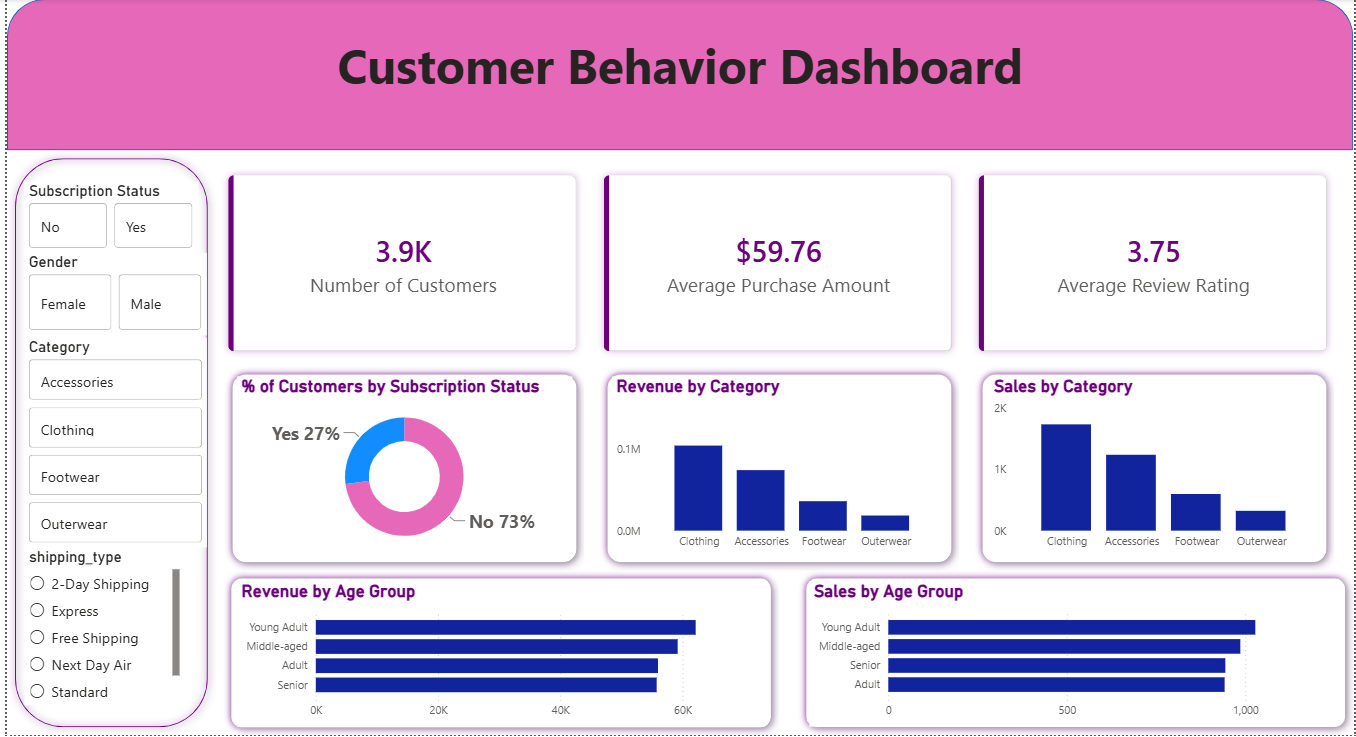

This screenshot's page, from the dashboard's own definition file:
{"tool":"powerbi","page":{"name":"Page 1","canvas":[1500,820],"ordinal":0},"visuals":[{"type":"cardVisual","fields":{"Data":["public customer.Number of Customers","public customer.Average Purchase Amount","public customer.Average Review Rating"]},"box":[218.6,168.5,1281.3,252.1],"z":0},{"type":"shape","box":[0,0,1499.9,168.5],"z":1000},{"type":"textbox","box":[0,32,1499.9,118.4],"z":2000},{"type":"shape","box":[242.3,409.4,401.1,227],"z":3000},{"type":"donutChart","title":"% of Customers by Subscription Status","fields":{"Category":["public customer.subscription_status"],"Y":["CountNonNull(public customer.customer_id)"]},"box":[256.3,420.6,373.2,201.9],"z":4000},{"type":"shape","box":[1077.9,409.4,401.1,227],"z":5000},{"type":"shape","box":[660.1,409.4,401.1,227],"z":6000},{"type":"clusteredColumnChart","title":"Revenue by Category","fields":{"Y":["Sum(public customer.purchase_amount)"],"Category":["public customer.category"]},"box":[674.1,420.6,366.3,201.9],"z":7000},{"type":"clusteredColumnChart","title":"Sales by Category","fields":{"Y":["CountNonNull(public customer.customer_id)"],"Category":["public customer.category"]},"box":[1094.6,420.6,366.3,201.9],"z":8000},{"type":"shape","box":[0,168.5,232.6,651.8],"z":9000},{"type":"advancedSlicerVisual","fields":{"Values":["public customer.subscription_status"]},"box":[19.5,203.3,193.6,79.4],"z":10000},{"type":"advancedSlicerVisual","fields":{"Values":["public customer.gender"]},"box":[19.5,282.7,203.3,91.9],"z":11000},{"type":"advancedSlicerVisual","fields":{"Values":["public customer.category"]},"box":[19.5,377.4,203.3,234],"z":12000},{"type":"listSlicer","fields":{"Values":["public customer.shipping_type"]},"box":[19.5,611.4,178.3,175.5],"z":13000},{"type":"shape","box":[240.6,636,619.1,184.3],"z":15000},{"type":"clusteredBarChart","title":"Revenue by Age Group","fields":{"Y":["Sum(public customer.purchase_amount)"],"Category":["public customer.age_group"]},"box":[256.1,648.7,579.7,161.8],"z":15500},{"type":"shape","box":[881.6,636.5,618.3,183.8],"z":16000},{"type":"clusteredBarChart","title":"Sales by Age Group","fields":{"Y":["CountNonNull(public customer.customer_id)"],"Category":["public customer.age_group"]},"box":[893.5,648.9,585.3,161.4],"z":17000}]}

Visuals, with their boxes in screenshot pixels (x1, y1, x2, y2), scaled from the page's 1500x820 canvas onto the 1356x737 screenshot:
cardVisual - public customer.Number of Customers x public customer.Average Purchase Amount: <box>198,151,1355,378</box>
shape: <box>0,0,1355,151</box>
textbox: <box>0,29,1355,135</box>
shape: <box>219,368,582,572</box>
"% of Customers by Subscription Status" donutChart: <box>232,378,569,559</box>
shape: <box>974,368,1337,572</box>
shape: <box>597,368,959,572</box>
"Revenue by Category" clusteredColumnChart: <box>609,378,941,559</box>
"Sales by Category" clusteredColumnChart: <box>990,378,1321,559</box>
shape: <box>0,151,210,736</box>
advancedSlicerVisual - public customer.subscription_status: <box>18,183,193,254</box>
advancedSlicerVisual - public customer.gender: <box>18,254,201,337</box>
advancedSlicerVisual - public customer.category: <box>18,339,201,550</box>
listSlicer - public customer.shipping_type: <box>18,550,179,707</box>
shape: <box>218,572,777,736</box>
"Revenue by Age Group" clusteredBarChart: <box>232,583,756,728</box>
shape: <box>797,572,1355,736</box>
"Sales by Age Group" clusteredBarChart: <box>808,583,1337,728</box>
